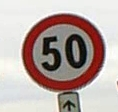limite 50: (21, 11, 106, 93)
